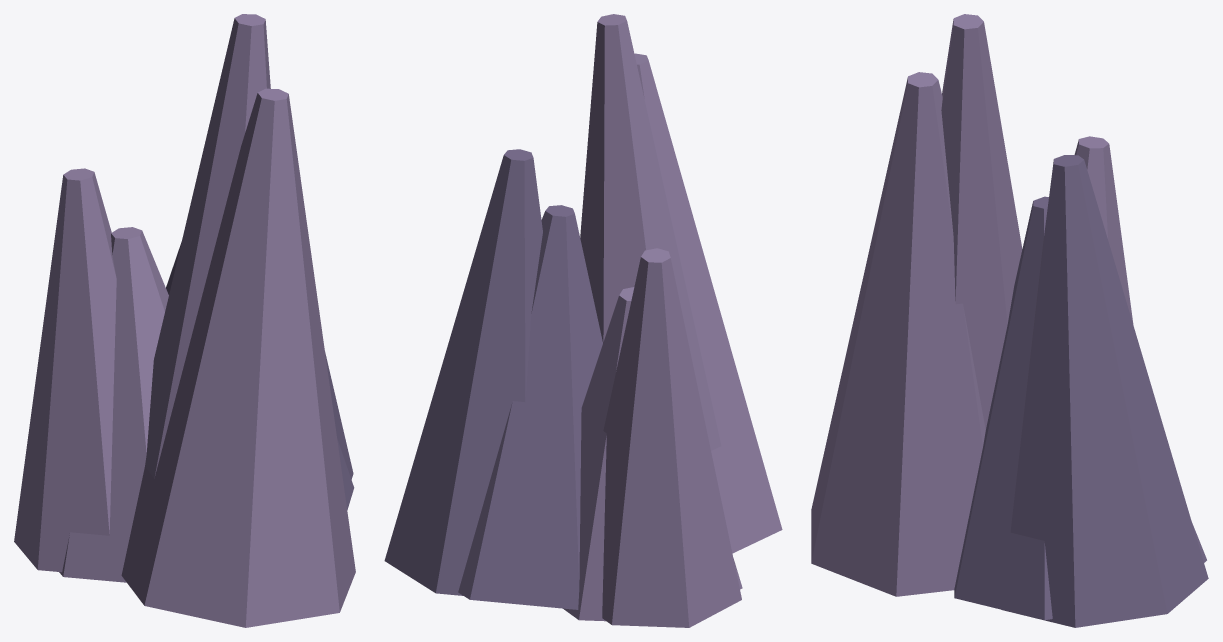
Rendered from ember_crag_c.glb.
3 views of the same model, side by side, from view 1: azimuth 30°, elevation 25°; view 2: azimuth 150°, elevation 25°; view 3: azimuth 270°, elevation 25° (orthographic). The views are drawn at different scales.
Visible parts, largest first — view 1: Crag_01.002, Crag_05, Crag_04.001, Crag_02.002, Crag_03.002, Crag_00.002; view 2: Crag_05, Crag_03.002, Crag_00.002, Crag_04.001, Crag_01.002, Crag_02.002; view 3: Crag_01.002, Crag_03.002, Crag_04.001, Crag_00.002, Crag_05.
Part boxes in pixels (x1,y1,x2,y2): Crag_01.002: [121, 88, 355, 627]; Crag_05: [14, 168, 116, 572]; Crag_04.001: [145, 14, 270, 478]; Crag_02.002: [59, 227, 168, 582]; Crag_03.002: [325, 352, 353, 479]; Crag_00.002: [166, 242, 354, 509]; Crag_05: [602, 248, 741, 627]; Crag_03.002: [384, 149, 542, 595]; Crag_00.002: [458, 205, 602, 609]; Crag_04.001: [580, 14, 721, 450]; Crag_01.002: [634, 53, 782, 553]; Crag_02.002: [563, 287, 742, 621]; Crag_01.002: [811, 72, 985, 596]; Crag_03.002: [1001, 155, 1208, 627]; Crag_04.001: [941, 14, 1022, 429]; Crag_00.002: [954, 196, 1206, 620]; Crag_05: [1074, 136, 1133, 323].
Bounding box in the file's own units: 2.86 × 4.5 × 2.98.
